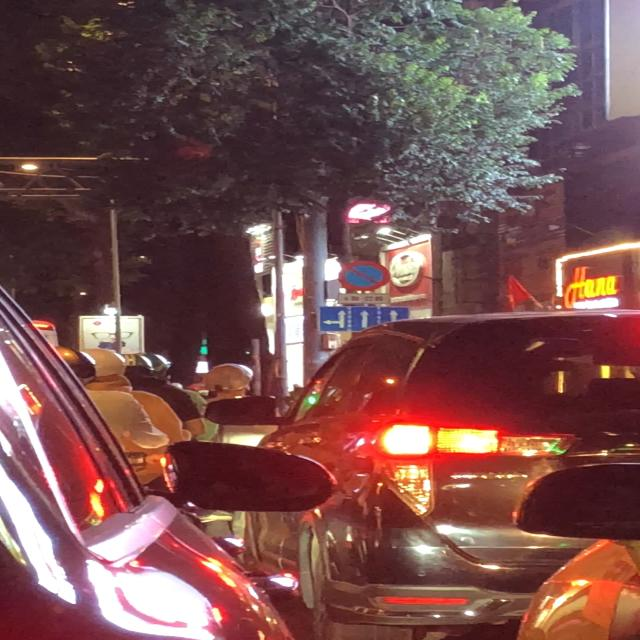Bien bao cam do xe: (334, 259, 395, 293)
